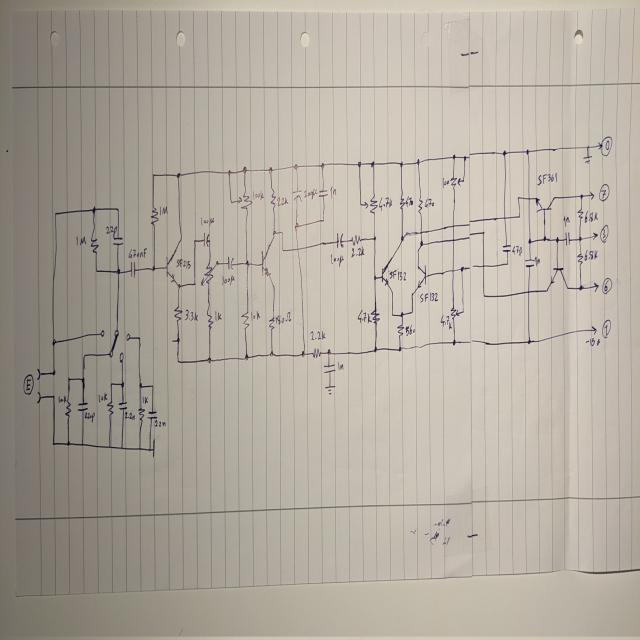capacitor: (334, 230, 346, 250), (290, 186, 303, 203), (324, 362, 336, 376), (76, 400, 88, 412), (524, 257, 536, 268), (118, 399, 128, 412), (128, 262, 136, 278), (113, 236, 124, 247), (317, 186, 327, 198), (227, 254, 234, 271), (202, 230, 209, 247), (501, 242, 511, 253), (147, 409, 156, 421), (564, 231, 570, 245)
crossover: (501, 213, 509, 222), (450, 235, 456, 245), (450, 222, 456, 230), (295, 244, 300, 252), (419, 228, 424, 236), (481, 262, 486, 270), (451, 267, 456, 274), (526, 288, 530, 294), (527, 196, 531, 202)
ground: (582, 147, 592, 165), (323, 383, 336, 395), (152, 438, 156, 460)
junction: (525, 335, 532, 345), (554, 234, 560, 245), (578, 191, 584, 200), (51, 337, 57, 346), (271, 227, 277, 236), (120, 378, 125, 388), (293, 162, 298, 171), (91, 205, 96, 214), (578, 234, 583, 243), (80, 439, 85, 448), (176, 282, 182, 289), (269, 348, 274, 356), (176, 171, 181, 179), (459, 265, 464, 273), (242, 165, 247, 173), (151, 264, 156, 272), (399, 160, 404, 168), (51, 368, 56, 376), (372, 273, 377, 281), (578, 283, 583, 291), (542, 234, 547, 242), (326, 347, 331, 355), (280, 228, 285, 236), (502, 148, 506, 157), (116, 266, 120, 275), (419, 239, 423, 248), (294, 221, 298, 230), (138, 442, 142, 451), (110, 380, 114, 389), (138, 382, 143, 389), (527, 237, 532, 244), (397, 345, 402, 352), (51, 439, 56, 446), (357, 160, 361, 168), (301, 349, 305, 357), (373, 345, 377, 353), (207, 355, 211, 363), (268, 165, 272, 173), (452, 338, 456, 346), (525, 148, 529, 156), (227, 168, 231, 176), (416, 158, 420, 166), (244, 352, 248, 360), (370, 160, 374, 168), (320, 161, 324, 169), (54, 209, 58, 217), (192, 237, 196, 245), (482, 291, 486, 299), (463, 153, 467, 161), (66, 439, 70, 447), (82, 351, 86, 359), (229, 197, 233, 205), (81, 376, 85, 384), (481, 228, 485, 236), (148, 446, 152, 454), (245, 259, 249, 266), (452, 153, 456, 160), (151, 171, 155, 178), (176, 357, 180, 364), (516, 194, 520, 201), (120, 444, 124, 451), (66, 375, 70, 382), (506, 260, 510, 267), (94, 267, 98, 273), (150, 382, 154, 388), (108, 442, 111, 450), (401, 232, 404, 240), (51, 392, 55, 398), (373, 234, 376, 241), (116, 205, 119, 212), (193, 280, 196, 287), (137, 336, 141, 341), (208, 238, 212, 243), (517, 213, 520, 219), (400, 310, 403, 316), (281, 246, 284, 252), (410, 309, 413, 315), (359, 201, 362, 207), (462, 178, 465, 184), (391, 312, 394, 316), (322, 217, 324, 222), (462, 308, 464, 313)
resistor: (200, 257, 217, 289), (363, 192, 378, 215), (237, 189, 252, 211), (90, 228, 99, 255), (173, 304, 183, 327), (240, 309, 250, 332), (370, 306, 381, 326), (150, 203, 159, 226), (448, 304, 459, 322), (206, 303, 213, 330), (269, 185, 276, 211), (449, 175, 461, 189), (350, 232, 361, 246), (64, 400, 72, 419), (311, 346, 321, 360), (138, 406, 145, 424), (576, 206, 584, 221), (417, 195, 423, 215), (398, 191, 404, 211), (268, 314, 275, 330), (576, 250, 583, 265), (107, 399, 113, 416), (397, 324, 404, 336)
switch: (98, 327, 132, 363)
terminal: (36, 389, 42, 405), (36, 367, 42, 380), (590, 324, 597, 334), (591, 230, 598, 240), (588, 190, 594, 200), (592, 282, 598, 292), (597, 139, 602, 149)
text: (537, 170, 558, 186), (23, 372, 34, 398), (128, 246, 147, 260), (439, 314, 453, 332), (419, 290, 438, 303), (601, 136, 612, 158), (389, 268, 406, 282), (309, 328, 326, 342), (378, 195, 392, 212), (274, 311, 292, 324), (583, 209, 598, 223), (184, 308, 198, 322), (176, 257, 191, 270), (330, 252, 343, 267), (583, 248, 598, 261), (304, 187, 318, 200), (599, 184, 609, 202), (602, 277, 612, 294), (222, 273, 235, 286), (357, 310, 369, 324), (200, 215, 215, 226), (584, 336, 600, 346), (600, 224, 608, 244), (602, 320, 612, 336), (351, 246, 364, 258), (276, 195, 289, 207), (105, 224, 117, 236), (75, 234, 87, 246), (250, 309, 261, 322), (253, 188, 264, 201), (84, 411, 95, 424), (124, 410, 136, 421), (512, 243, 522, 256), (424, 196, 434, 209), (214, 308, 223, 322), (404, 324, 414, 336), (97, 391, 107, 403), (154, 418, 166, 428), (159, 204, 168, 217), (562, 214, 570, 228), (329, 185, 337, 199), (405, 195, 413, 208), (57, 393, 66, 404), (442, 176, 449, 189), (534, 255, 541, 267), (337, 361, 344, 371), (141, 394, 148, 402)
transistor: (165, 238, 181, 285), (546, 266, 568, 293), (261, 239, 274, 284), (535, 192, 555, 214), (413, 262, 427, 293), (380, 264, 390, 289)
